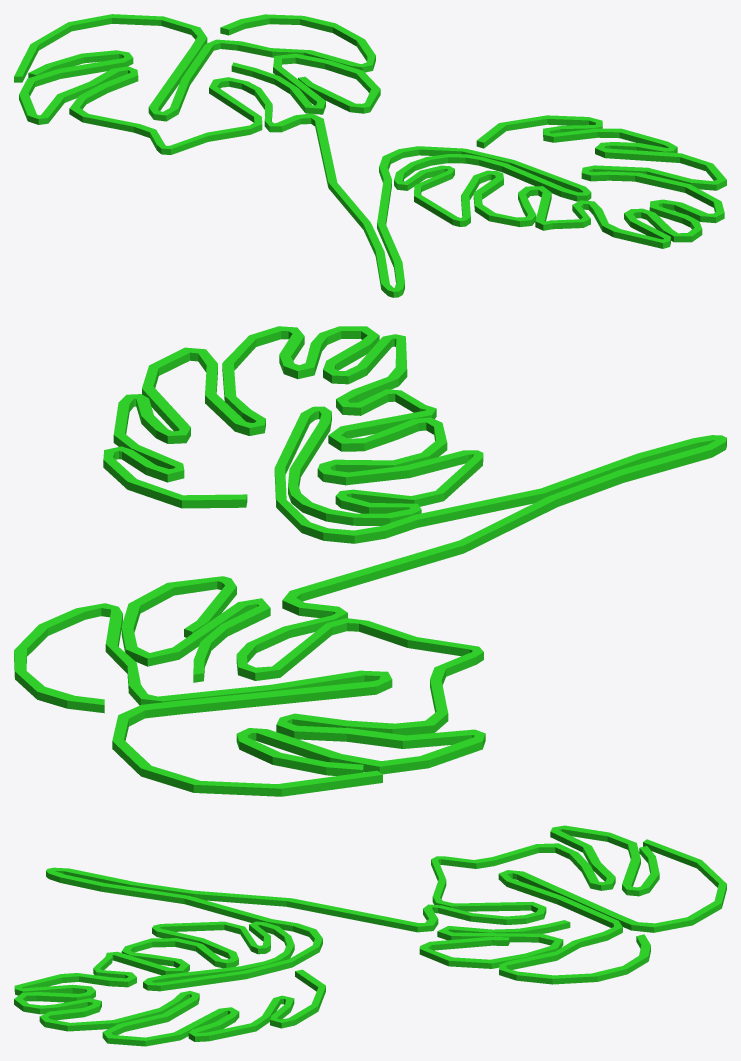
The model's file is Neon_Palm_Tree.fbx.
The picture shows the model from 3 angles, top to bottom: view 1: azimuth 30°, elevation 25°; view 2: azimuth 150°, elevation 25°; view 3: azimuth 270°, elevation 25°; orthographic projection. The views are drawn at different scales.
Parts seen in each view (by area): view 1: Neon_Palm_Tree; view 2: Neon_Palm_Tree; view 3: Neon_Palm_Tree.
Part boxes in pixels (x1=…): Neon_Palm_Tree: x1=14, y1=14, x2=726, y2=297; Neon_Palm_Tree: x1=14, y1=326, x2=726, y2=796; Neon_Palm_Tree: x1=14, y1=825, x2=726, y2=1046.
Bounding box in the file's own units: 242 × 2.94 × 338.
